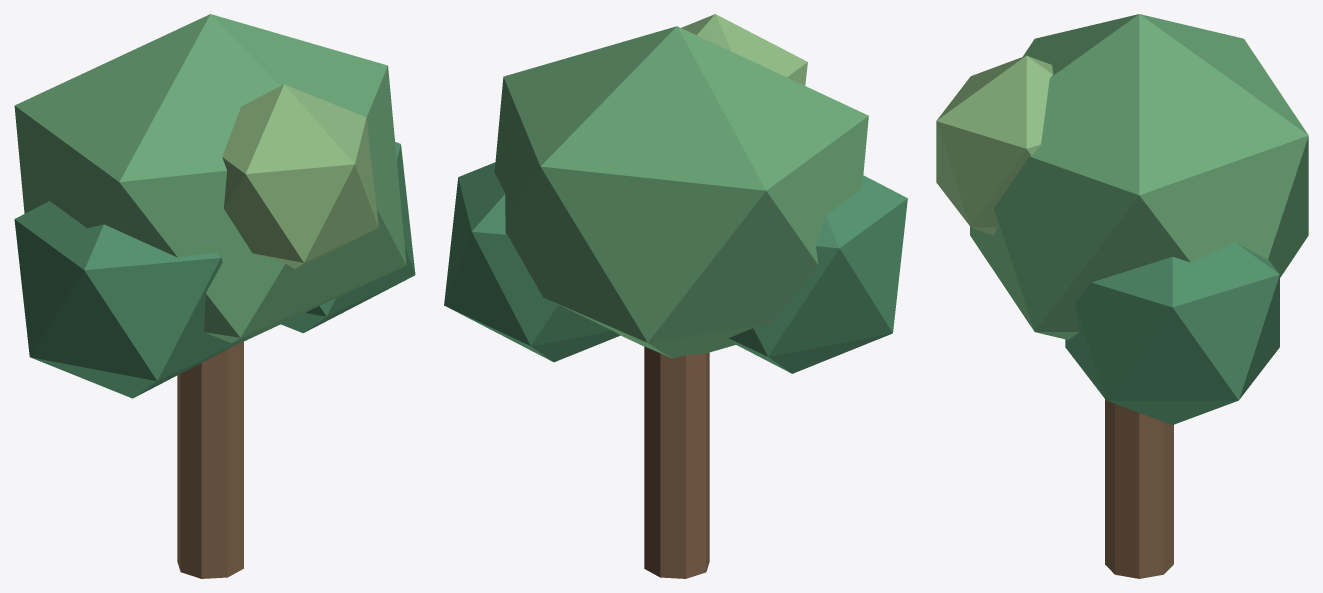
File: stylized_broadleaf.glb
3 renders of one model, left to right at view 1: azimuth 30°, elevation 25°; view 2: azimuth 150°, elevation 25°; view 3: azimuth 270°, elevation 25°, orthographic. The views are drawn at different scales.
Visible parts, largest first — view 1: StylizedBroadleaf; view 2: StylizedBroadleaf; view 3: StylizedBroadleaf.
Part boxes in pixels (x1,y1,x2,y2): StylizedBroadleaf: (14,14,415,578); StylizedBroadleaf: (444,14,907,578); StylizedBroadleaf: (936,14,1308,578).
Bounding box in the file's own units: 3.54 × 4.58 × 2.81.
